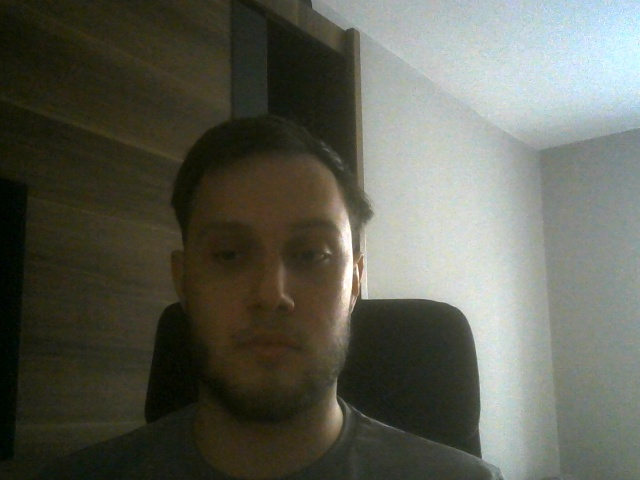neutral: (170, 121, 364, 417)
